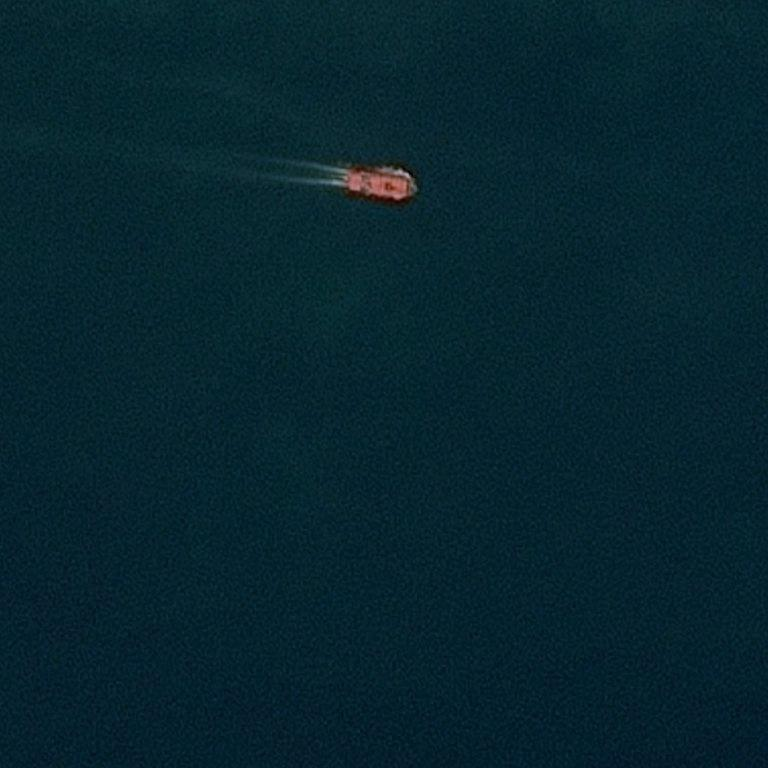ship: (344, 163, 416, 202), (410, 183, 414, 195), (348, 33, 353, 39), (349, 166, 354, 171)
